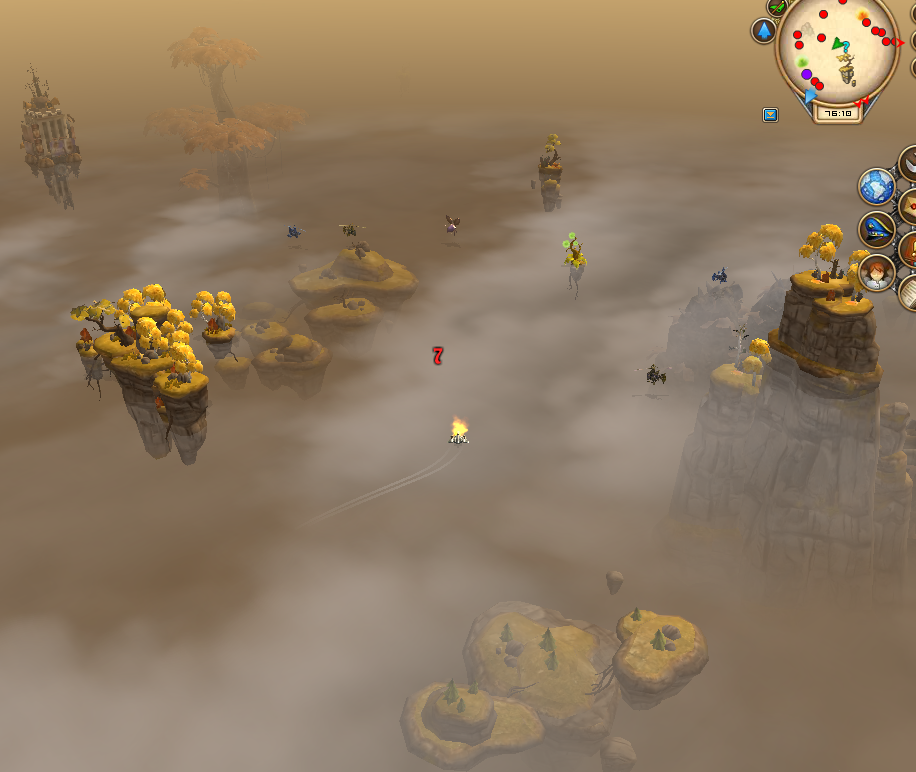dandelion-full: (559, 227, 592, 287)
